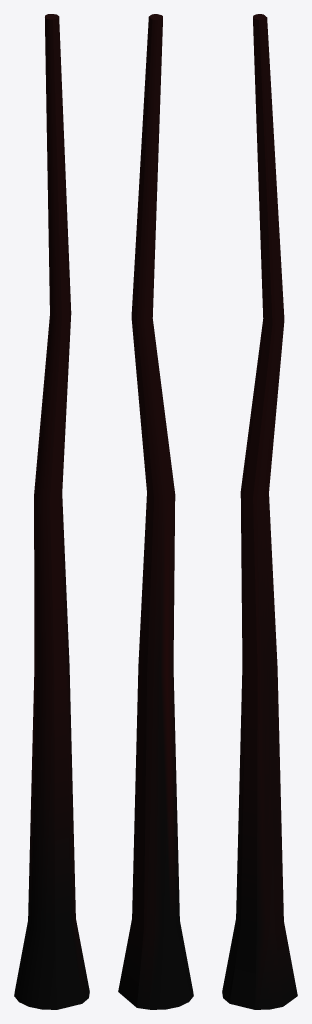
Rendered from tree.fbx.
The picture shows the model from 3 angles, left to right: view 1: azimuth 30°, elevation 25°; view 2: azimuth 150°, elevation 25°; view 3: azimuth 330°, elevation 25°; orthographic projection.
Visible parts, largest first — view 1: Tree; view 2: Tree; view 3: Tree.
Boxes of the visible parts, box(x1,y1,x2,y2) form: Tree: box(14, 14, 89, 1009); Tree: box(118, 14, 193, 1009); Tree: box(222, 14, 297, 1009).
Size of the model in its own units: 140 by 2055 by 140.
